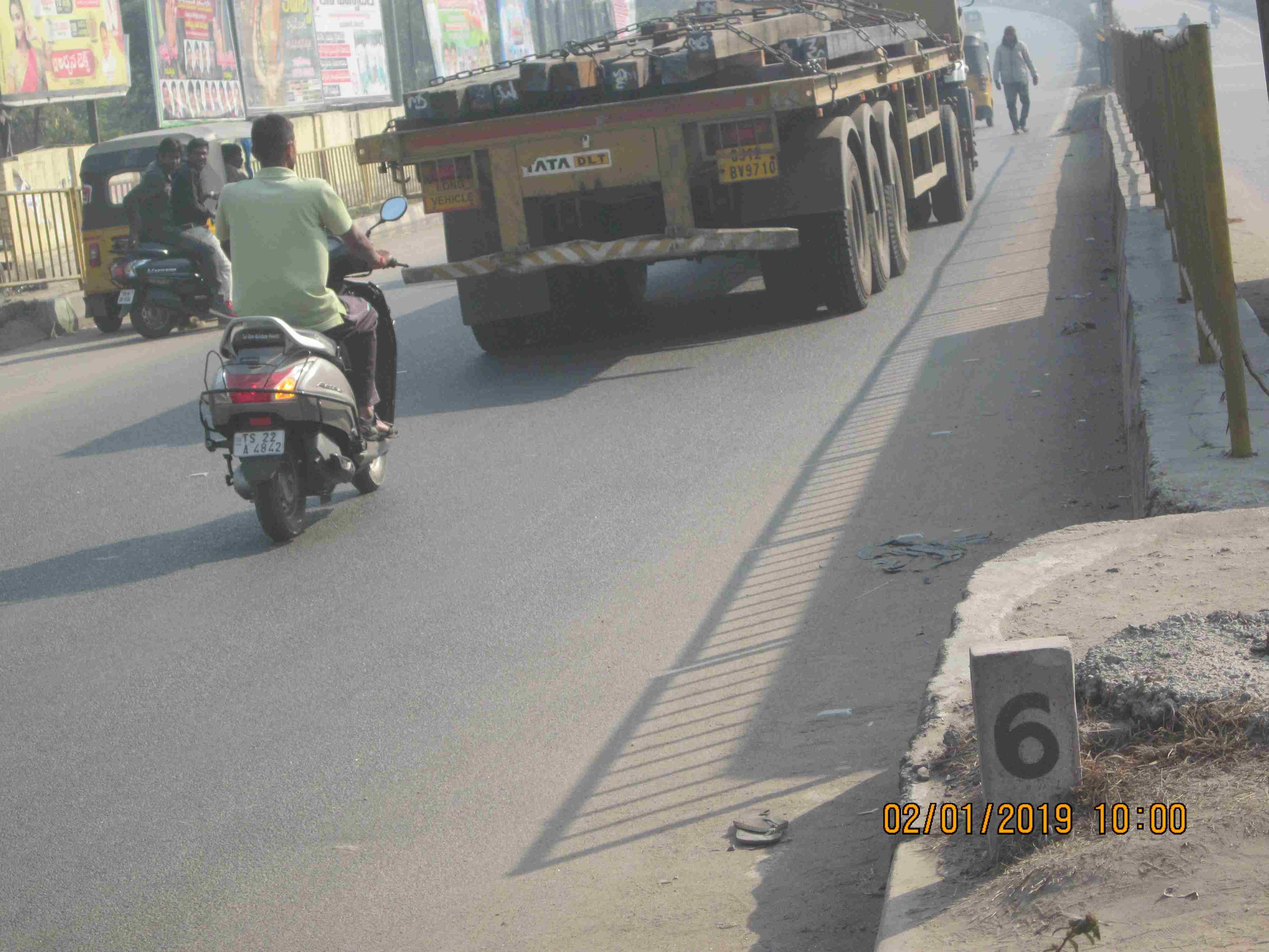plate: (231, 424, 291, 460)
